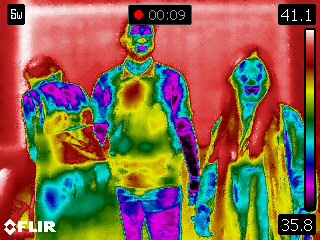human: (192, 45, 312, 240), (97, 26, 197, 240), (20, 53, 119, 240)
